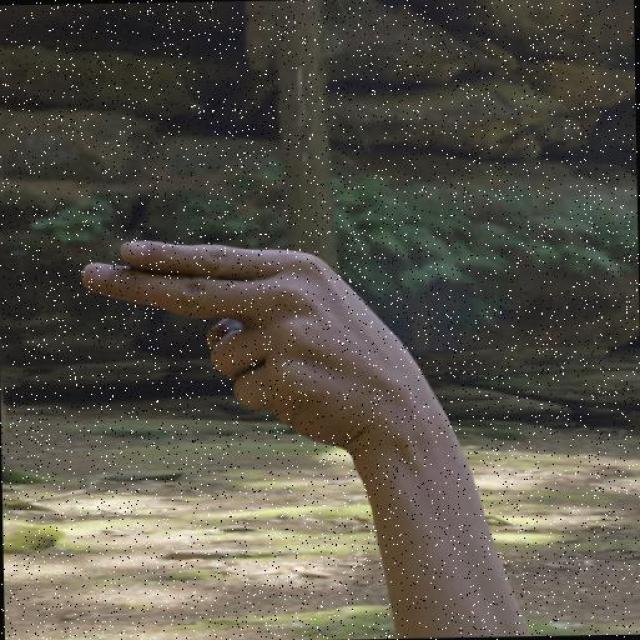H: (78, 230, 435, 450)
